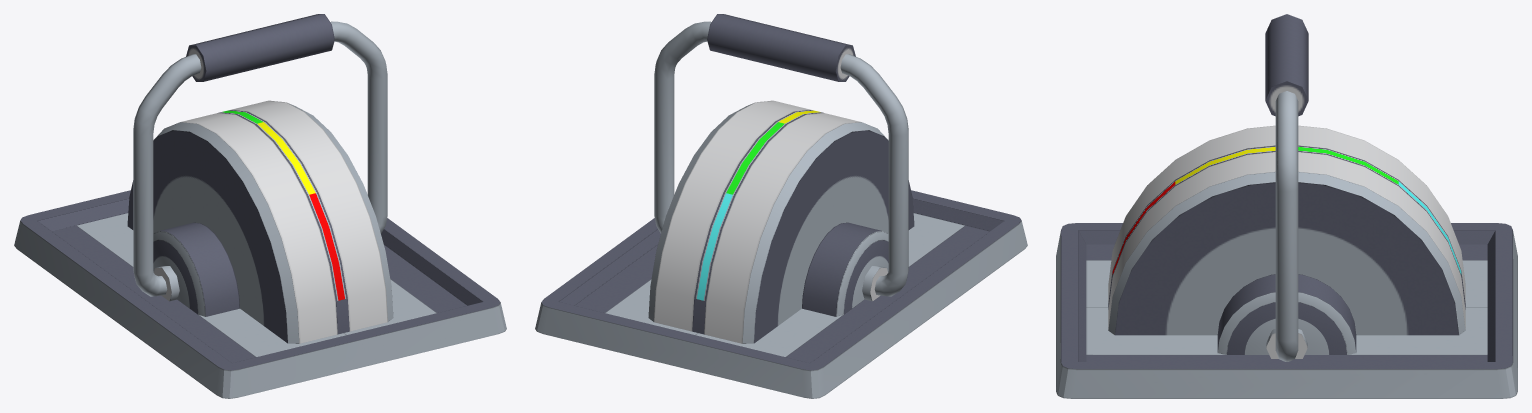
File: Panel_Handle_01.FBX
3 views of the same model, side by side, from view 1: azimuth 30°, elevation 25°; view 2: azimuth 150°, elevation 25°; view 3: azimuth 270°, elevation 25° (orthographic). The views are drawn at different scales.
Parts seen in each view (by area): view 1: Panel_Handle_01, Handle_01; view 2: Panel_Handle_01, Handle_01; view 3: Panel_Handle_01, Handle_01.
Boxes of the visible parts, x1,y1,x2,y2 form: Panel_Handle_01: (14, 100, 506, 398); Handle_01: (133, 14, 387, 301); Panel_Handle_01: (535, 100, 1027, 398); Handle_01: (654, 14, 908, 301); Panel_Handle_01: (1056, 125, 1517, 398); Handle_01: (1265, 14, 1308, 361).
Bounding box in the file's own units: 0.8657 × 0.7414 × 1.12.
